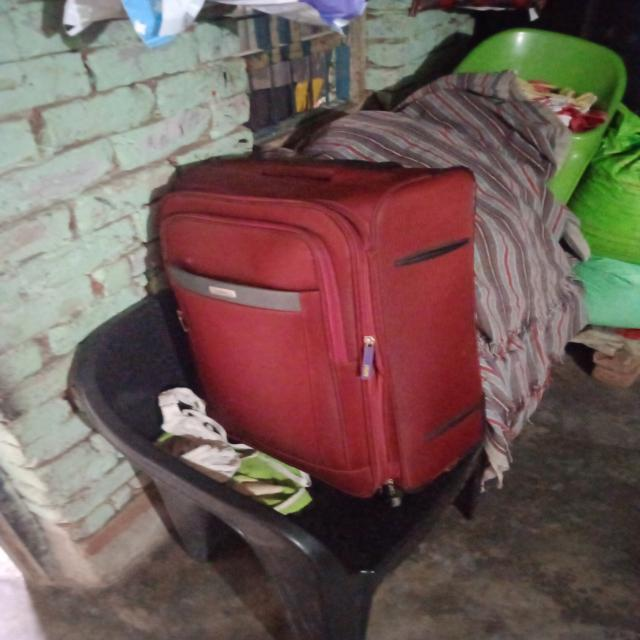suitcaserotation: (149, 151, 488, 510)
